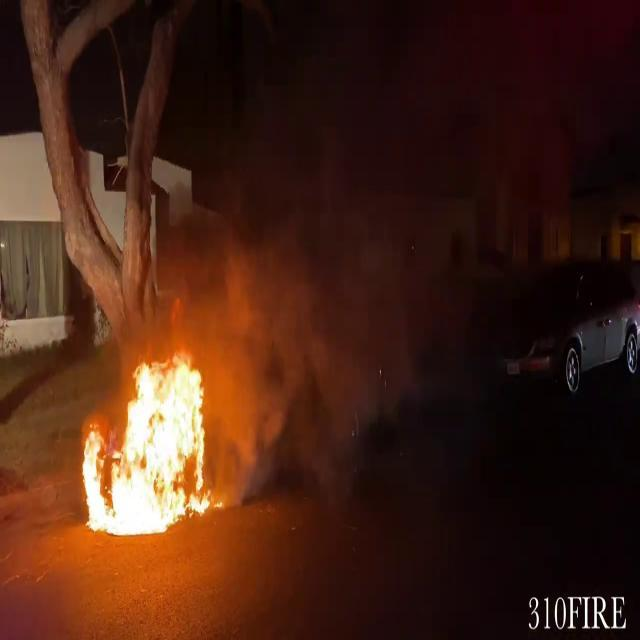Fire: (76, 339, 220, 540)
Smoke: (157, 41, 460, 476)
